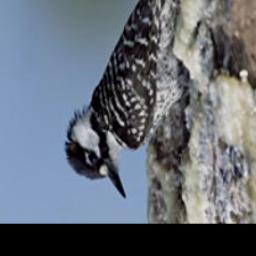Woodpecker: (64, 0, 223, 208)
